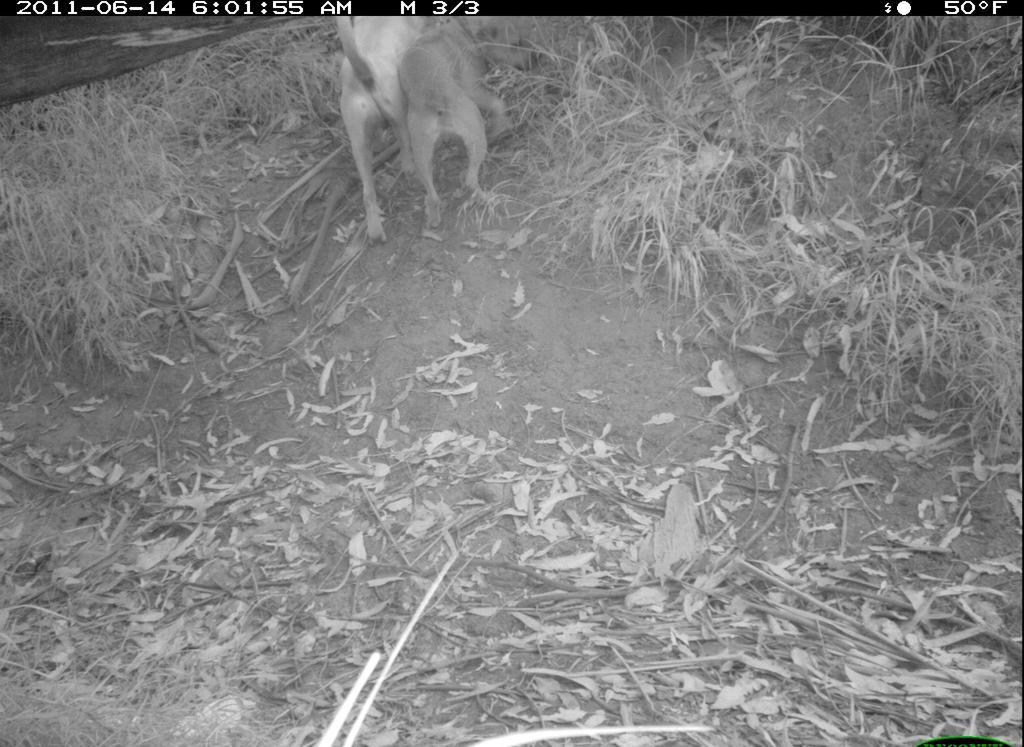dog: (327, 20, 443, 249), (406, 17, 513, 236)
